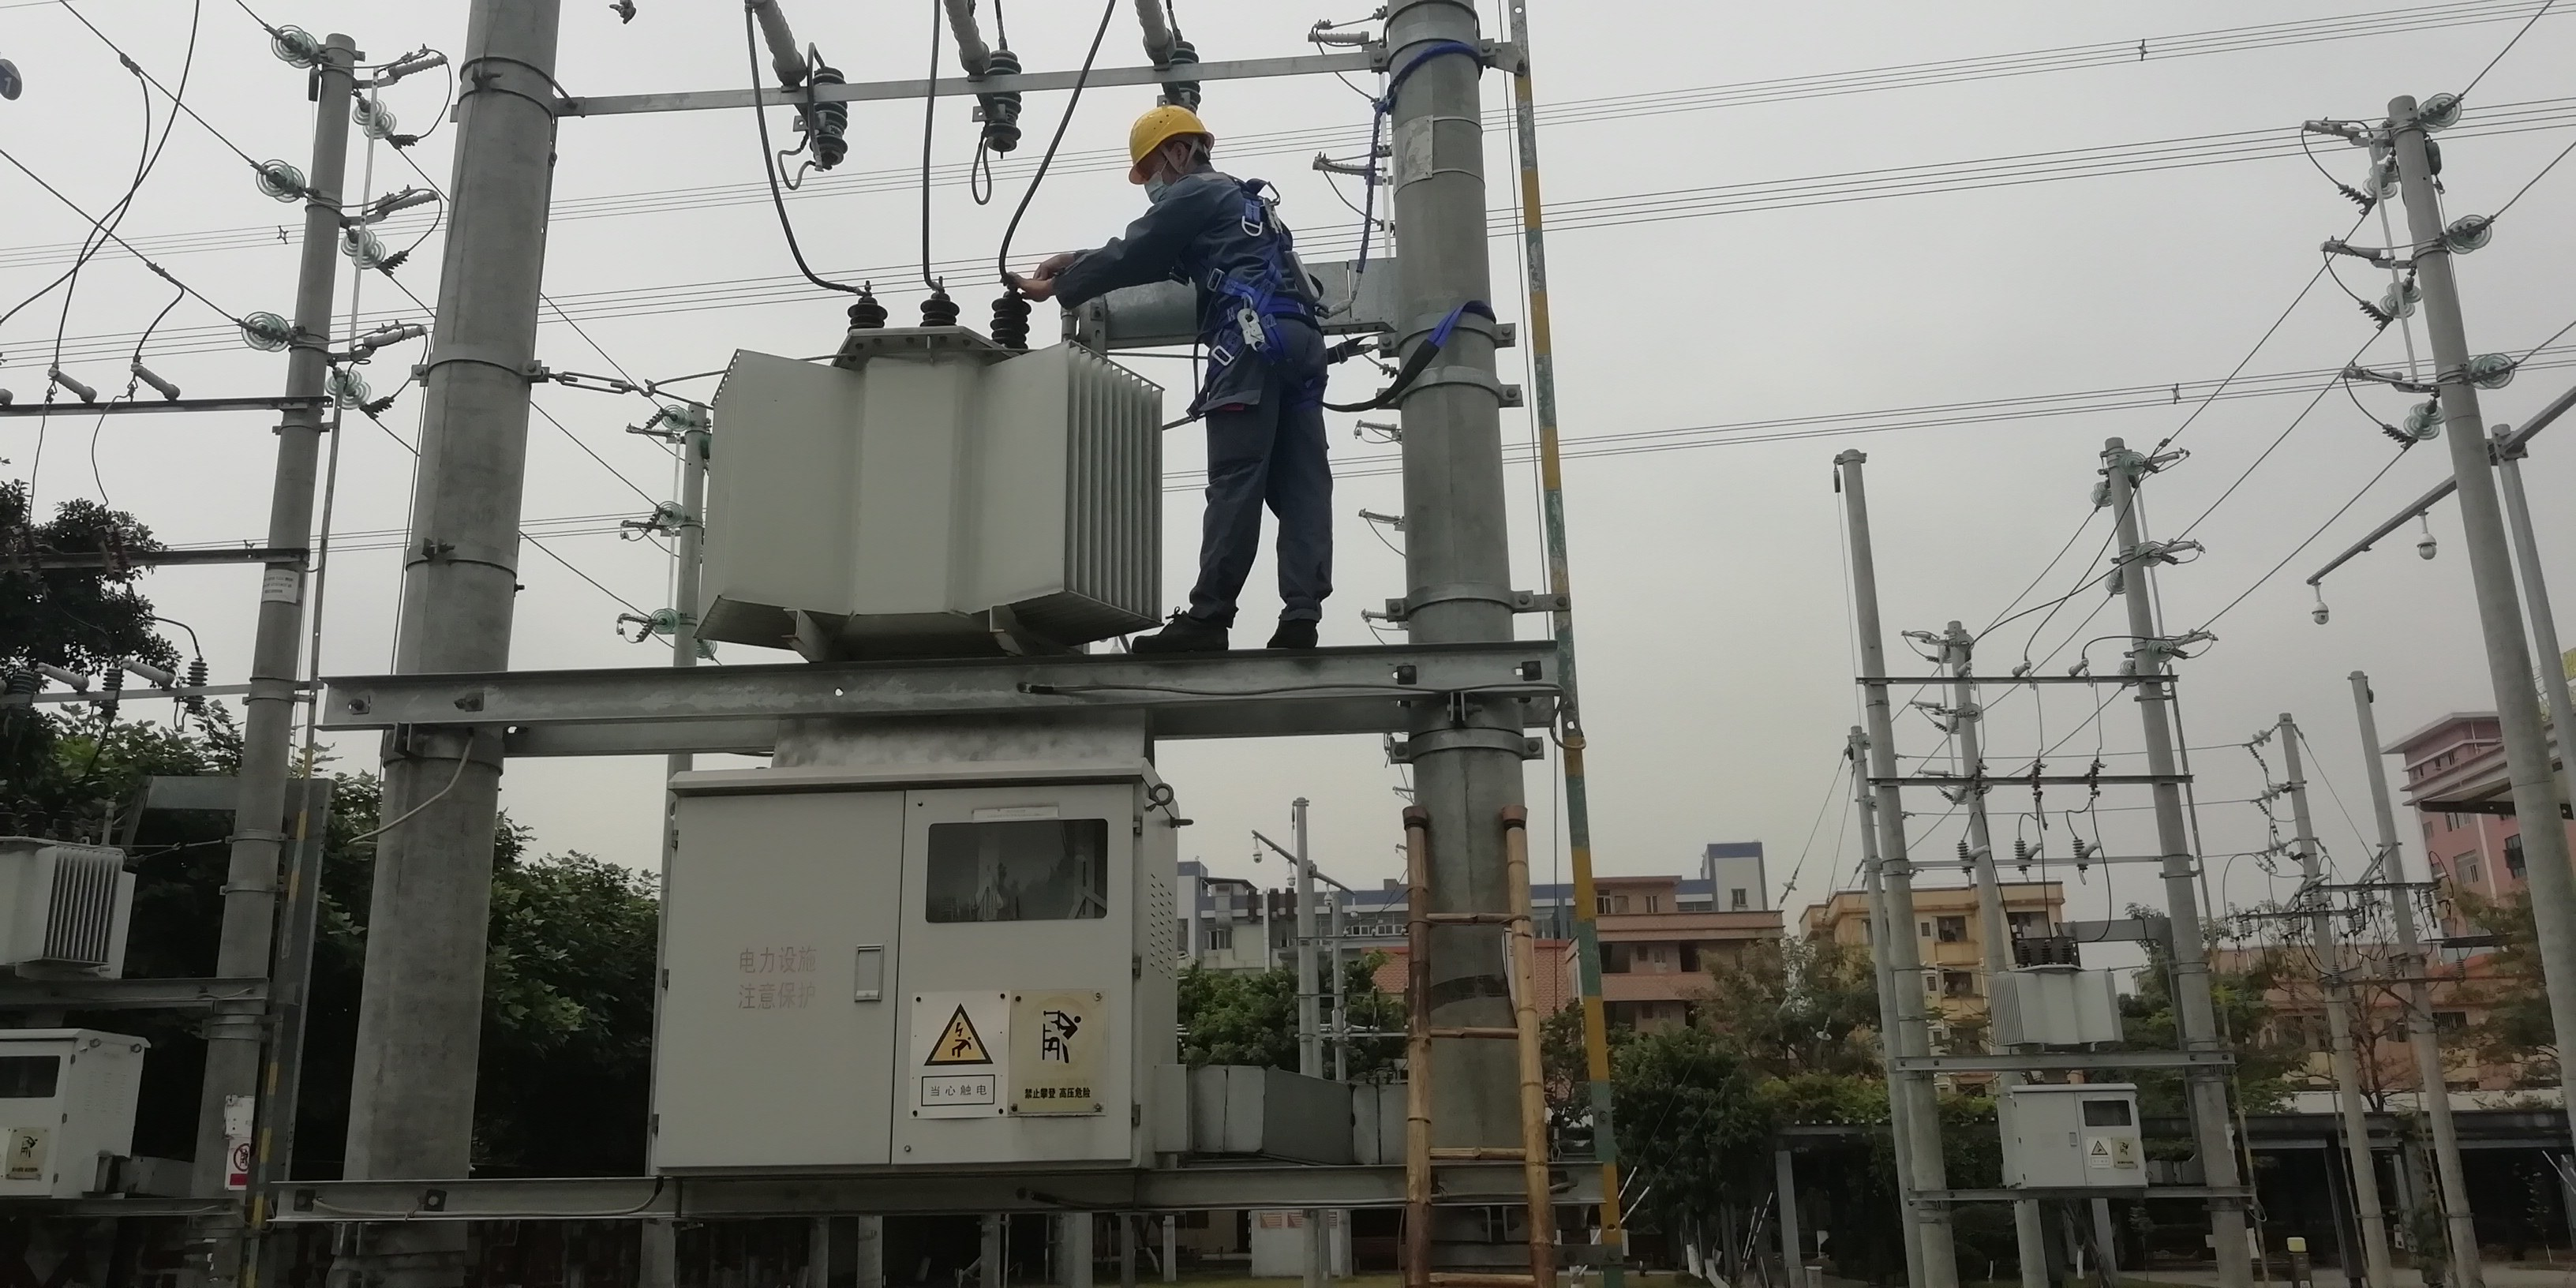downsuit: (1181, 370, 1327, 598)
upsuit: (1111, 184, 1304, 371)
